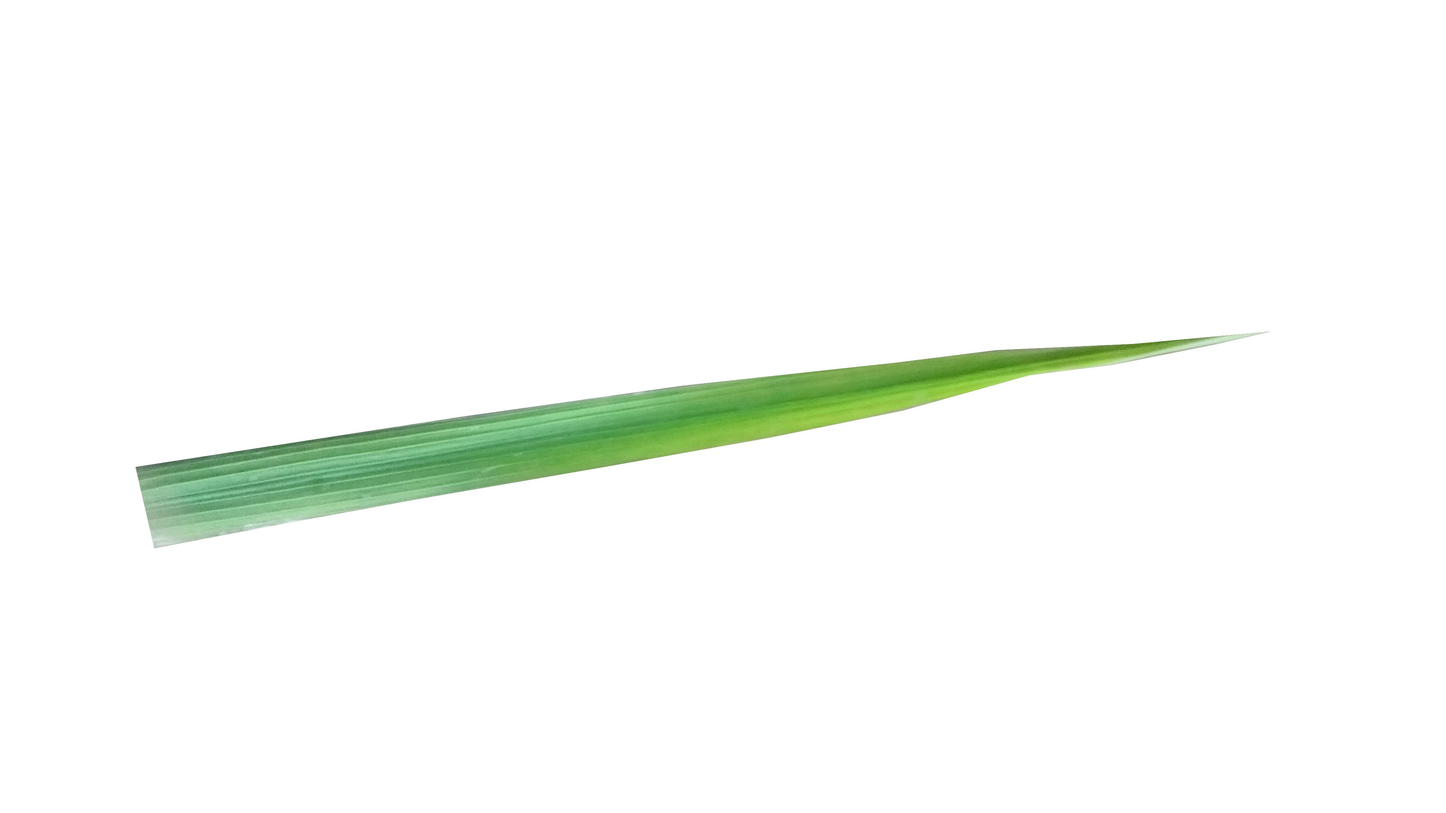Tungro: (532, 356, 1111, 479)
